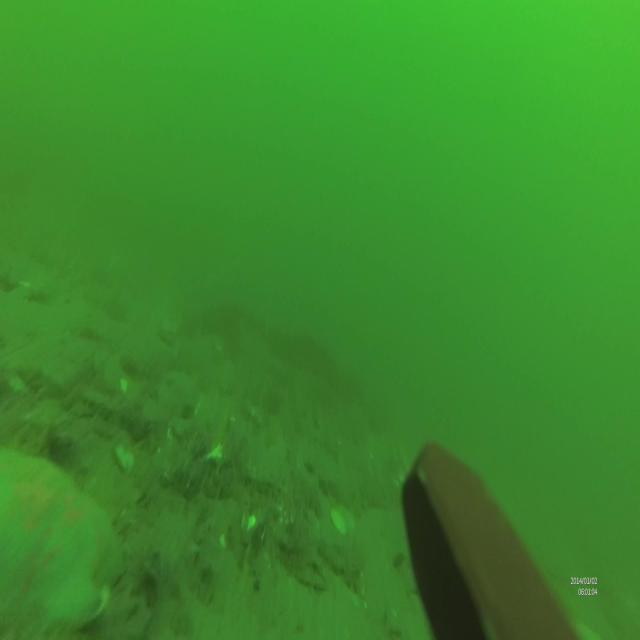starfish: (0, 446, 124, 640)
